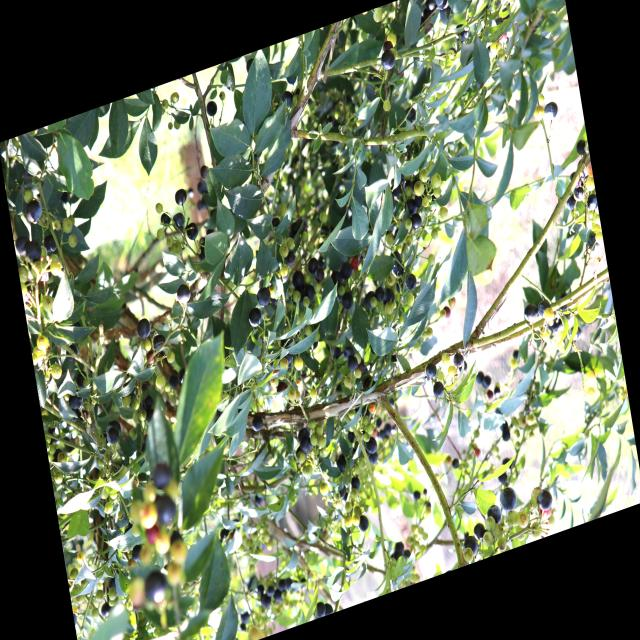blueberry: (141, 568, 169, 606), (154, 491, 177, 526), (498, 483, 519, 515), (375, 44, 398, 73), (150, 462, 172, 490), (24, 198, 44, 226), (460, 530, 480, 558), (25, 240, 43, 268), (536, 486, 554, 514), (400, 195, 420, 219), (486, 502, 503, 528), (175, 282, 193, 306), (435, 5, 454, 27), (255, 285, 273, 308), (522, 301, 539, 325), (13, 236, 30, 260), (584, 231, 602, 253), (67, 389, 84, 412), (136, 317, 152, 341), (172, 185, 188, 209), (42, 233, 58, 257), (542, 97, 558, 121), (75, 369, 90, 394), (170, 211, 187, 233), (380, 285, 396, 308), (537, 298, 553, 320), (151, 332, 167, 354), (364, 288, 378, 312), (204, 97, 219, 119), (248, 306, 263, 328), (472, 521, 487, 543), (431, 379, 445, 402), (390, 260, 405, 281), (339, 261, 353, 283), (130, 543, 144, 565), (185, 220, 199, 242), (64, 343, 80, 362), (573, 138, 588, 158), (298, 436, 313, 456), (404, 272, 418, 293), (302, 283, 316, 304), (106, 427, 120, 448), (305, 256, 318, 278), (340, 291, 355, 310), (158, 209, 172, 229), (104, 419, 120, 436), (389, 182, 404, 200), (340, 344, 355, 362), (564, 194, 579, 212), (409, 176, 423, 195), (424, 361, 438, 380), (409, 211, 422, 231), (313, 266, 326, 286), (585, 192, 598, 212), (365, 438, 379, 456), (250, 416, 264, 434), (348, 474, 361, 493), (412, 192, 427, 208), (330, 270, 342, 290), (451, 352, 465, 369), (334, 456, 347, 474), (197, 162, 210, 180), (569, 325, 582, 342), (374, 286, 386, 304), (346, 355, 358, 373), (573, 185, 586, 201), (357, 516, 369, 533), (281, 91, 292, 109), (366, 452, 380, 466), (295, 427, 310, 440), (144, 409, 156, 425), (99, 601, 110, 618), (167, 372, 178, 389), (143, 396, 154, 412), (432, 0, 449, 10), (342, 492, 350, 504)
blueberry-halfripe: (144, 523, 160, 546), (144, 350, 157, 368), (274, 379, 288, 395), (348, 254, 360, 272), (583, 160, 593, 180), (539, 505, 552, 520), (497, 31, 508, 45), (367, 401, 376, 416), (443, 304, 451, 320)
blueberry-unripe: (136, 500, 159, 531), (168, 536, 189, 568), (138, 480, 159, 508), (164, 560, 184, 588), (528, 518, 543, 542), (515, 508, 530, 530), (429, 170, 444, 190), (153, 372, 168, 392), (483, 513, 497, 534), (412, 178, 426, 198), (481, 528, 494, 549), (385, 30, 398, 50), (67, 564, 80, 584), (488, 38, 502, 56), (532, 104, 546, 122), (514, 523, 526, 543), (507, 508, 519, 528), (94, 587, 106, 607), (117, 463, 130, 481), (372, 6, 384, 25), (462, 546, 474, 565), (496, 534, 508, 553), (491, 522, 504, 539), (107, 584, 118, 604), (384, 300, 396, 318), (56, 448, 68, 466), (528, 484, 542, 499), (404, 289, 415, 308), (293, 353, 304, 372), (278, 262, 290, 279), (318, 480, 330, 497), (88, 604, 100, 621), (278, 243, 289, 261), (131, 522, 142, 540), (47, 440, 58, 458), (445, 47, 457, 63), (120, 393, 132, 409), (286, 386, 298, 402), (316, 434, 328, 450), (102, 500, 114, 516), (418, 167, 429, 184), (438, 206, 449, 222), (154, 200, 165, 216), (295, 448, 306, 464), (313, 423, 324, 439), (350, 512, 361, 528), (80, 574, 91, 590), (438, 56, 448, 73), (404, 233, 414, 250), (74, 592, 86, 606), (535, 92, 546, 107), (584, 177, 595, 192), (129, 397, 140, 412), (594, 228, 604, 244), (386, 231, 396, 247), (382, 98, 392, 114), (172, 239, 182, 255), (142, 338, 152, 354), (165, 350, 175, 366), (286, 236, 296, 252), (292, 289, 302, 305), (279, 356, 289, 372), (270, 374, 280, 390), (342, 374, 352, 390), (343, 499, 353, 515), (350, 485, 360, 501), (440, 352, 450, 368), (116, 507, 126, 523), (429, 227, 440, 241), (425, 159, 436, 173), (303, 324, 314, 338), (432, 184, 442, 199), (386, 273, 396, 288), (156, 227, 166, 242), (304, 463, 314, 478), (343, 513, 353, 528), (446, 364, 456, 379), (528, 496, 538, 511), (54, 471, 64, 486), (496, 48, 506, 62), (396, 312, 406, 326), (369, 294, 379, 308), (426, 252, 436, 266), (347, 407, 357, 421), (365, 422, 375, 436), (332, 489, 342, 503), (421, 194, 430, 209), (362, 430, 371, 445), (309, 433, 318, 448), (590, 222, 600, 235), (312, 331, 322, 344), (100, 486, 110, 499), (403, 217, 412, 231), (354, 366, 363, 380), (362, 413, 371, 427), (308, 418, 317, 432), (425, 326, 434, 340), (436, 369, 445, 383), (108, 489, 118, 501), (309, 386, 317, 400), (433, 199, 442, 211), (319, 446, 328, 458), (166, 235, 174, 248), (302, 296, 310, 308)
